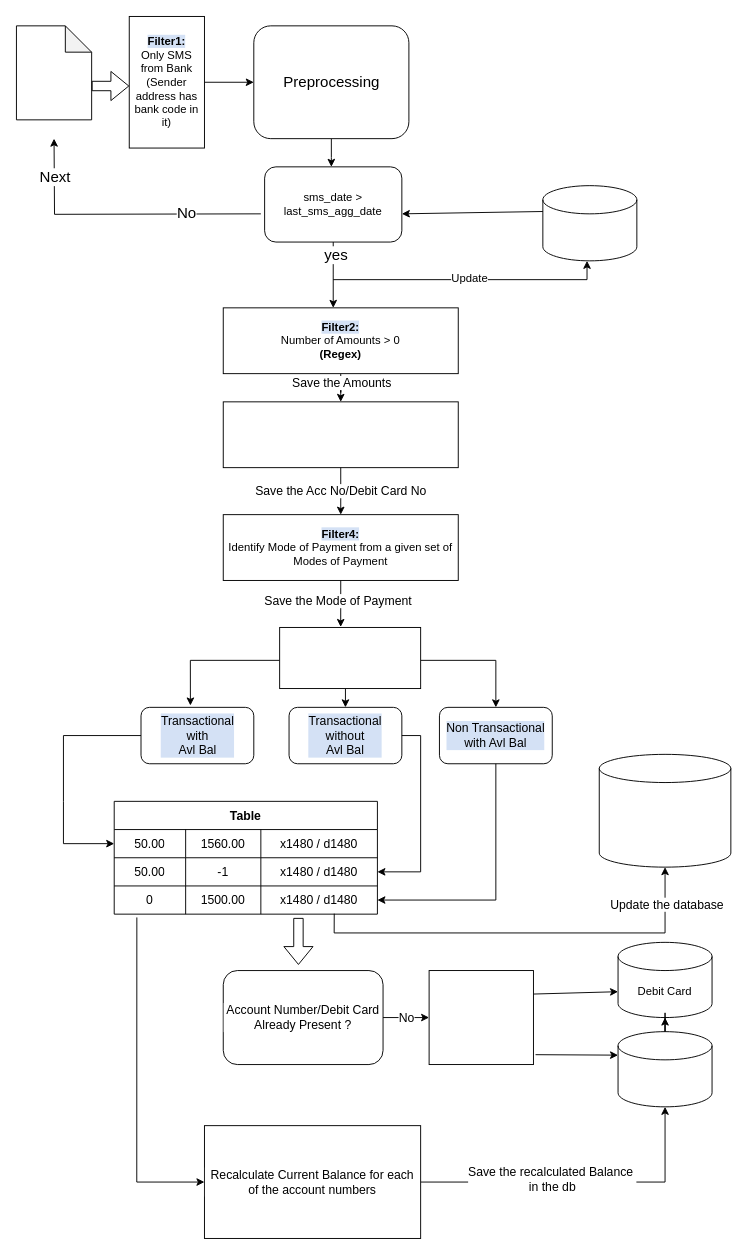
Image size: 747x1255. Some labels were removed from this diagram. The centre of each missing label's shape, as x and y in pixels:
"Account Number" belongs at point (664, 1069).
"Bank Statements Aggregated" belongs at point (664, 810).
"Combined Decision 1. No of txn amounts 2. Transaction Keywords" belongs at point (350, 658).
"Filter3: Account Number/Debit Card Found (Regex)" belongs at point (340, 434).
"Last SMS Agg Date" belongs at point (589, 223).
"Regex to identify Account No or Debit Card" belongs at point (480, 1017).
